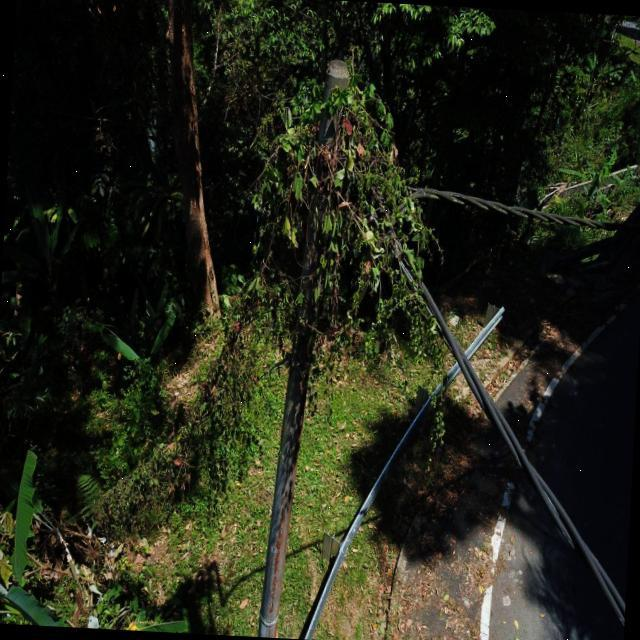critical vegetation: (168, 61, 458, 478)
